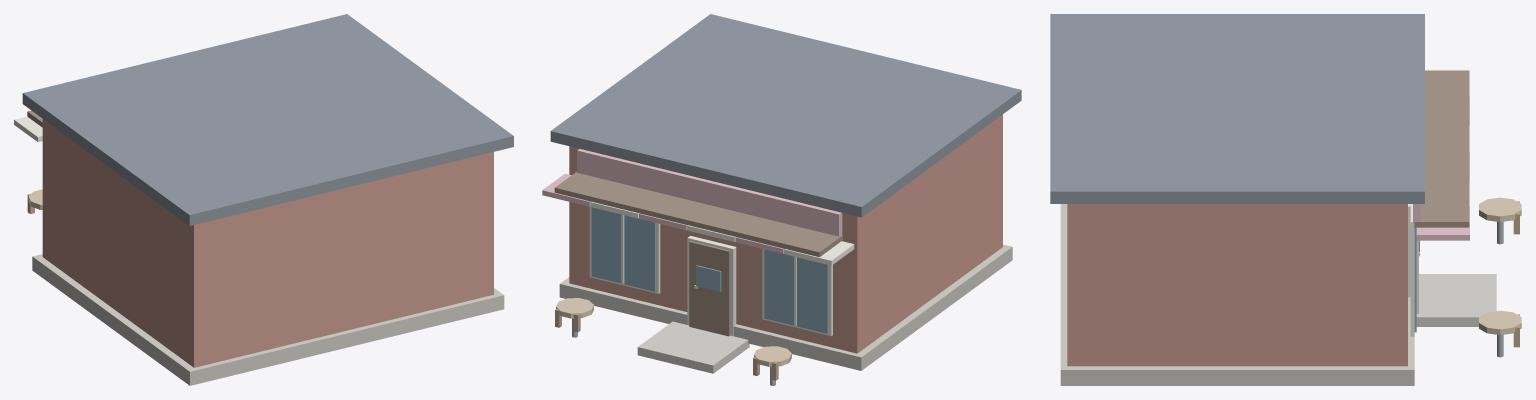
Rendered from Shop_Cafe.glb.
3 views of the same model, side by side, from view 1: azimuth 30°, elevation 25°; view 2: azimuth 150°, elevation 25°; view 3: azimuth 270°, elevation 25° (orthographic). The views are drawn at different scales.
Visible parts, largest first — view 1: 001_facade_001, 002_parapet_002, 000_foundation_000, 015_awning_strip_015; view 2: 002_parapet_002, 001_facade_001, 000_foundation_000, 021_awning_support_021, 003_signboard_003, 008_storefront_glass_008, 005_storefront_glass_005, 014_stoop_014, 011_door_011, 010_door_trim_010, 015_awning_strip_015, 004_storefront_frame_004 (+5 smaller); view 3: 002_parapet_002, 001_facade_001, 000_foundation_000, 021_awning_support_021, 014_stoop_014, 022_cylinder_022, 026_cylinder_026, 020_awning_strip_020, 007_storefront_frame_007.
Boxes of the visible parts, x1,y1,x2,y2 form: 001_facade_001: (42, 119, 493, 367); 002_parapet_002: (22, 14, 513, 225); 000_foundation_000: (32, 254, 504, 385); 015_awning_strip_015: (14, 116, 42, 141); 002_parapet_002: (550, 14, 1021, 217); 001_facade_001: (569, 114, 1002, 353); 000_foundation_000: (559, 244, 1012, 370); 021_awning_support_021: (554, 172, 842, 257); 003_signboard_003: (577, 149, 842, 236); 008_storefront_glass_008: (591, 207, 655, 291); 005_storefront_glass_005: (764, 249, 828, 333); 014_stoop_014: (637, 321, 749, 373); 011_door_011: (689, 241, 730, 336); 010_door_trim_010: (687, 236, 736, 336); 015_awning_strip_015: (784, 241, 854, 265); 004_storefront_frame_004: (762, 249, 832, 336); 002_parapet_002: (1050, 14, 1424, 203); 001_facade_001: (1067, 204, 1407, 366); 000_foundation_000: (1060, 204, 1414, 385); 021_awning_support_021: (1414, 70, 1469, 227); 014_stoop_014: (1416, 274, 1496, 326); 022_cylinder_022: (1479, 197, 1521, 221); 026_cylinder_026: (1479, 310, 1521, 335); 020_awning_strip_020: (1416, 208, 1469, 240); 007_storefront_frame_007: (1410, 204, 1414, 336).
Size of the model in its own units: 8.65 by 4.59 by 9.69.
